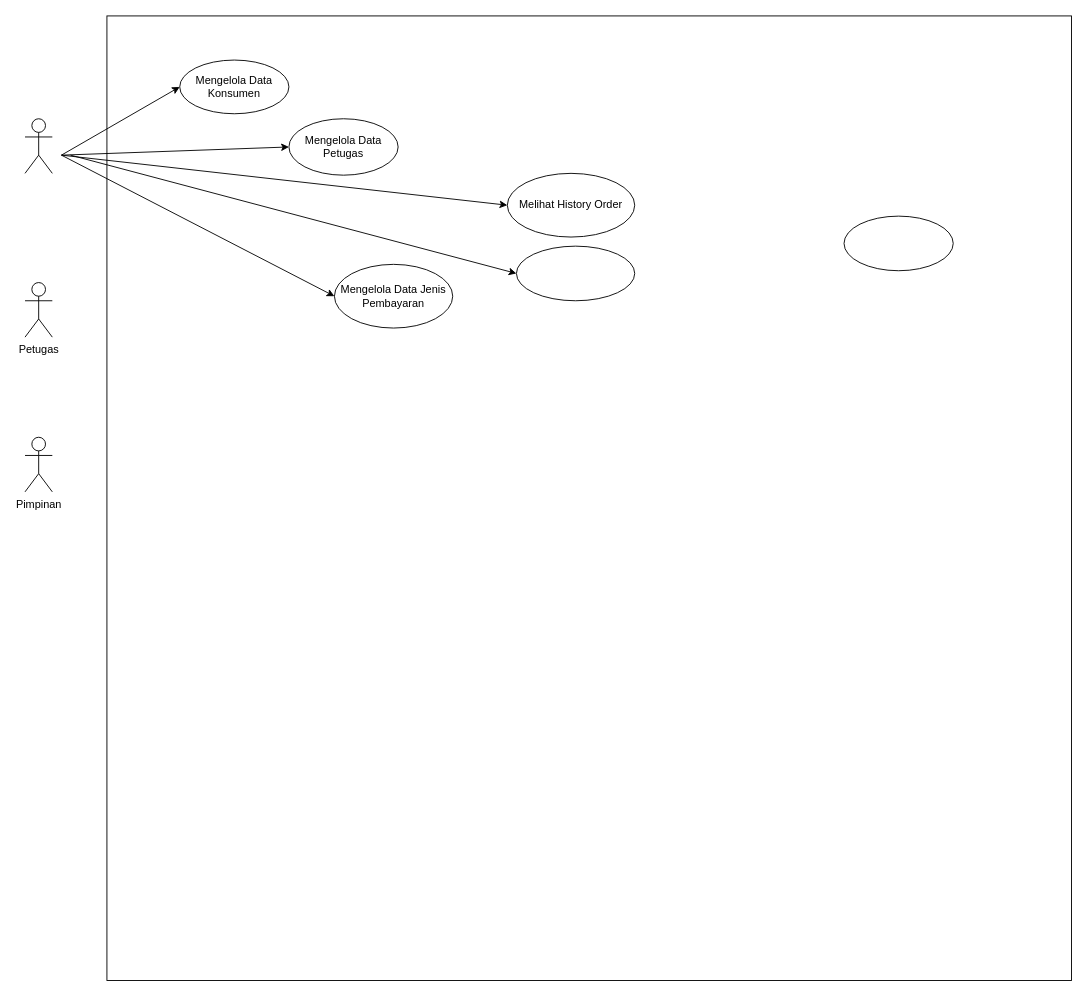
The diagram is 1087 pixels wide and 996 high, and some of its shapes have lost their labels. Each missing label, with the centre of its shape:
Admin: the point at 38,145
Entri Transaksi Order: the point at 575,273
Membuat Laporan: the point at 898,243
